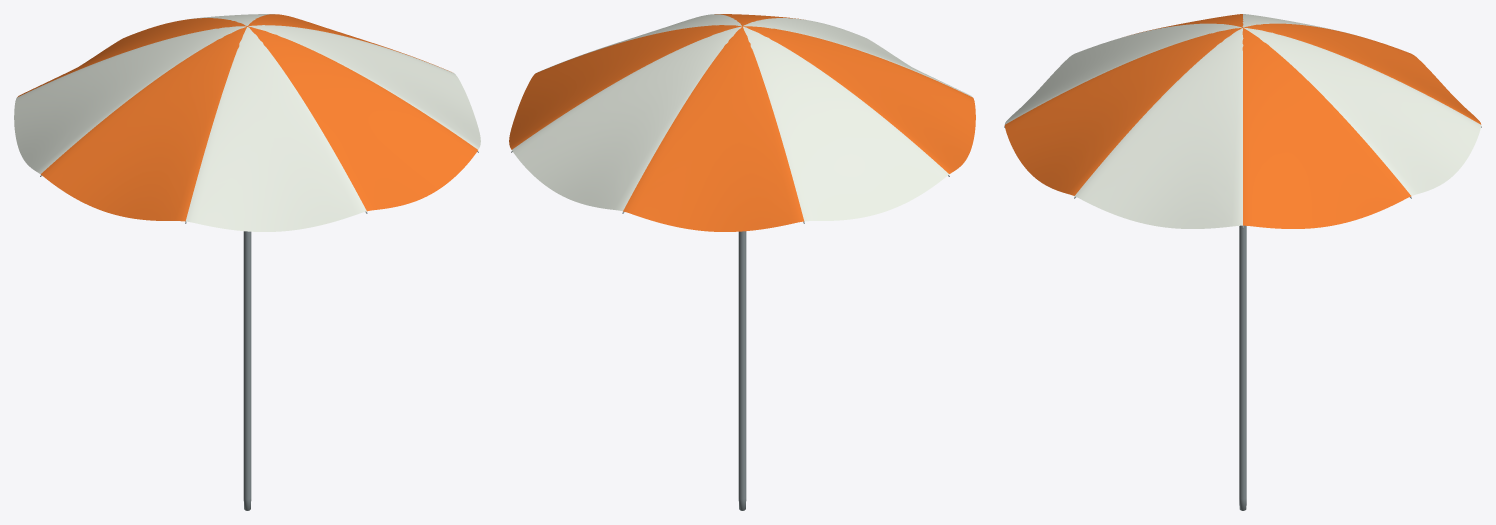
Rendered from Beach_umbrella_LOD1.glb.
3 renders of one model, left to right at view 1: azimuth 30°, elevation 25°; view 2: azimuth 150°, elevation 25°; view 3: azimuth 270°, elevation 25°, orthographic.
Visible parts, largest first — view 1: Beach_umbrella_GameMesh; view 2: Beach_umbrella_GameMesh; view 3: Beach_umbrella_GameMesh.
Boxes of the visible parts, x1,y1,x2,y2 form: Beach_umbrella_GameMesh: (14,14,480,510); Beach_umbrella_GameMesh: (509,14,975,510); Beach_umbrella_GameMesh: (1004,14,1481,510).
Bounding box in the file's own units: 2.2 × 2.45 × 2.2.
